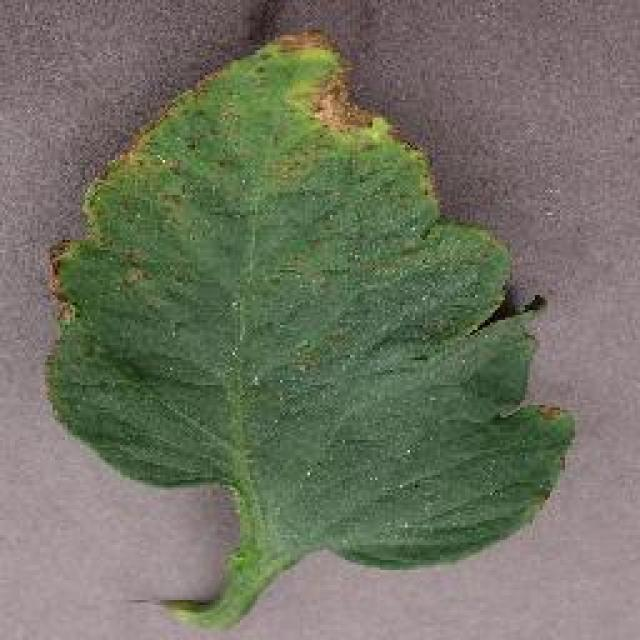Tomato bacterial spot leaf: (44, 39, 571, 626)
